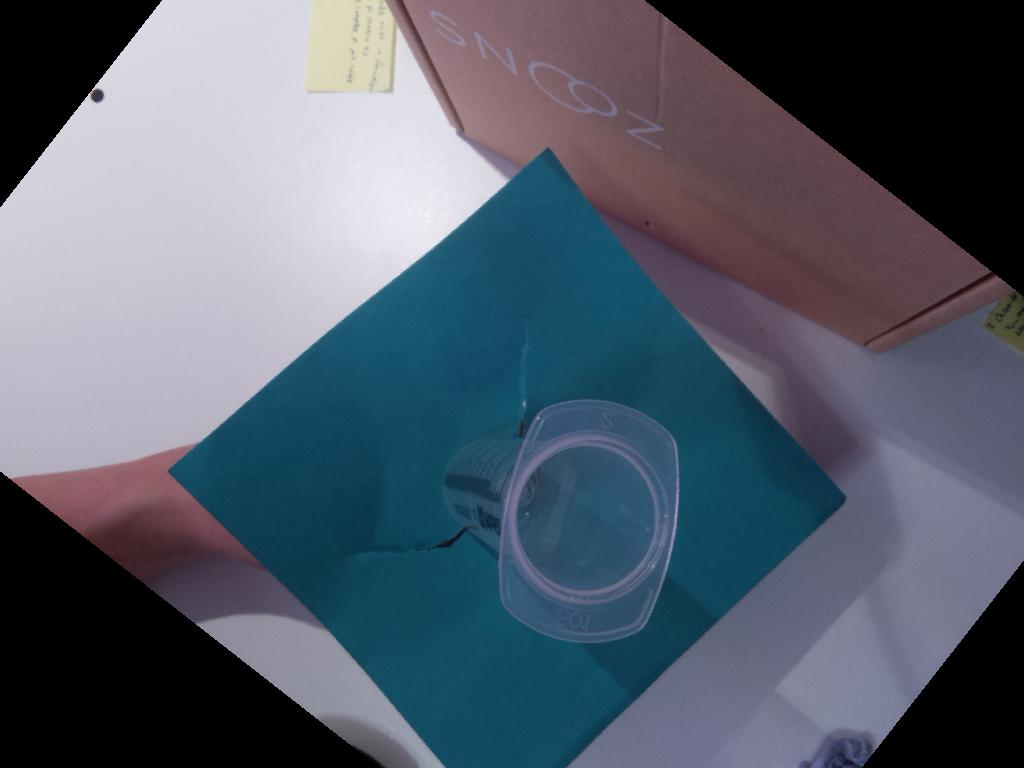clean: (499, 396, 681, 649)
